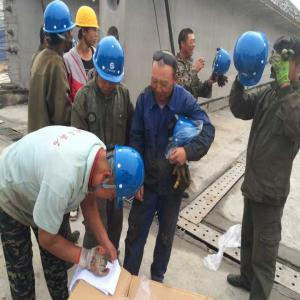blue: (91, 138, 148, 208), (93, 35, 127, 98), (41, 2, 75, 57)
none: (270, 31, 300, 94), (149, 48, 181, 101), (177, 24, 199, 59)
yellow: (74, 5, 101, 49)
